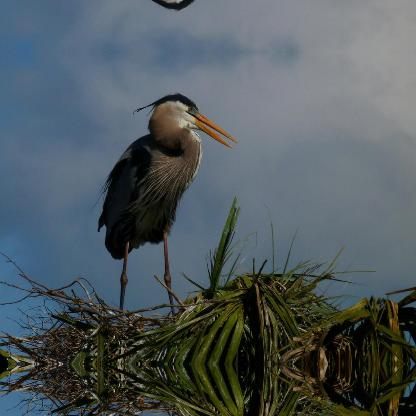Bird: (94, 92, 238, 316)
